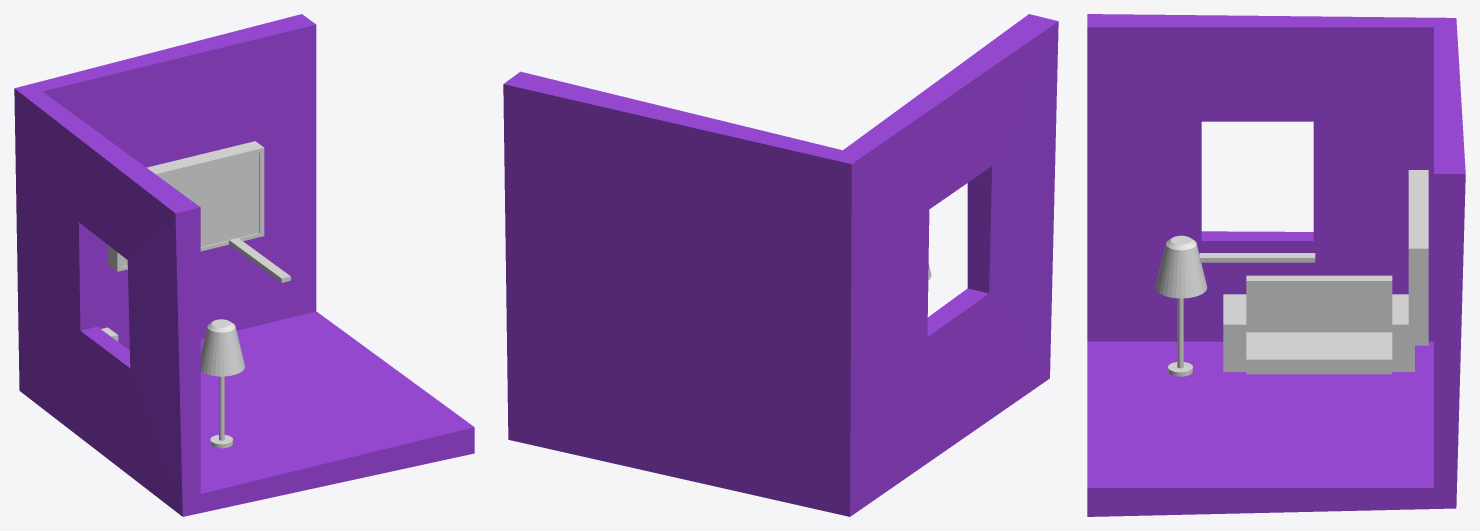
Rendered from room.glb.
The picture shows the model from 3 angles, left to right: view 1: azimuth 30°, elevation 25°; view 2: azimuth 150°, elevation 25°; view 3: azimuth 270°, elevation 25°; orthographic projection. The views are drawn at different scales.
Visible parts, largest first — view 1: Cube, Куб.001, Цилиндр.001, Куб.002, Цилиндр; view 2: Cube; view 3: Cube, Куб, Куб.001, Цилиндр.001, Куб.002, Цилиндр.
Part boxes in pixels (box(x1,y1,x2,y2)): Cube: box(14, 14, 474, 516); Куб.001: box(108, 141, 264, 271); Цилиндр.001: box(200, 319, 244, 376); Куб.002: box(229, 238, 290, 282); Цилиндр: box(210, 376, 232, 448); Cube: box(503, 14, 1058, 516); Cube: box(1087, 14, 1465, 516); Куб: box(1223, 275, 1414, 374); Куб.001: box(1408, 170, 1428, 345); Цилиндр.001: box(1155, 235, 1207, 298); Куб.002: box(1199, 253, 1315, 262); Цилиндр: box(1168, 298, 1192, 376).
Bounding box in the file's own units: 2.18 × 2.18 × 2.18.
